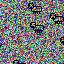sheep: (28, 3, 42, 15), (30, 22, 44, 34), (50, 13, 64, 24)
